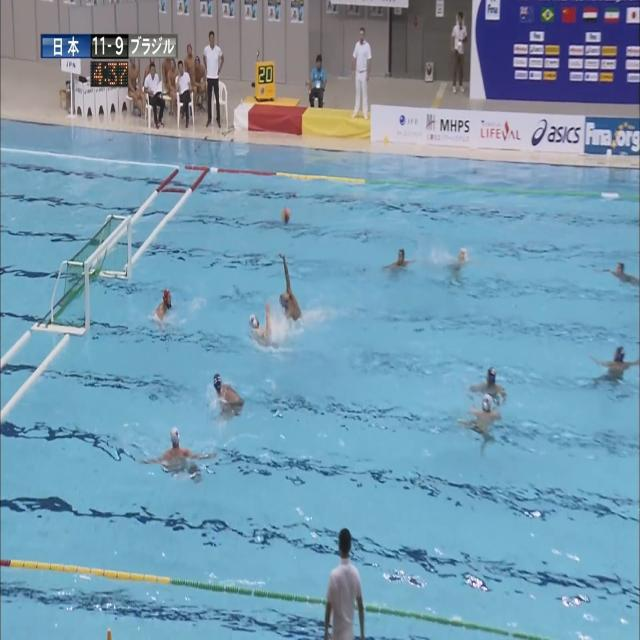ball: (282, 208, 290, 224)
